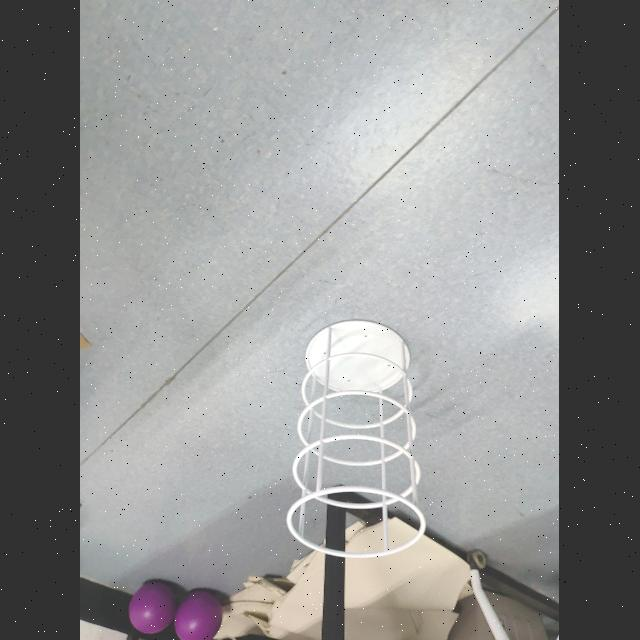S: (282, 316, 430, 562)
